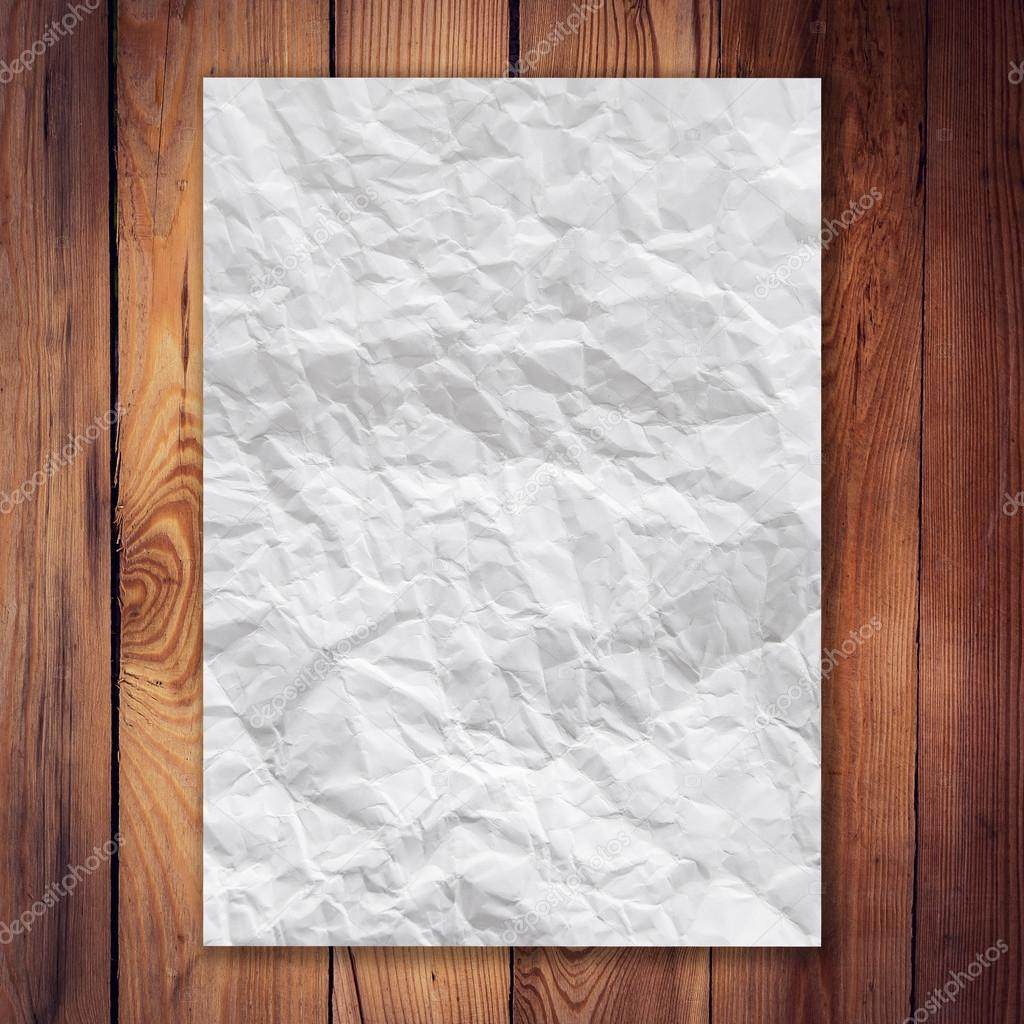page: (204, 81, 818, 942)
